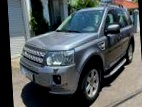car: (14, 0, 141, 107)
